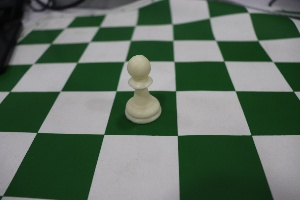white_pawn: (102, 35, 187, 134)
